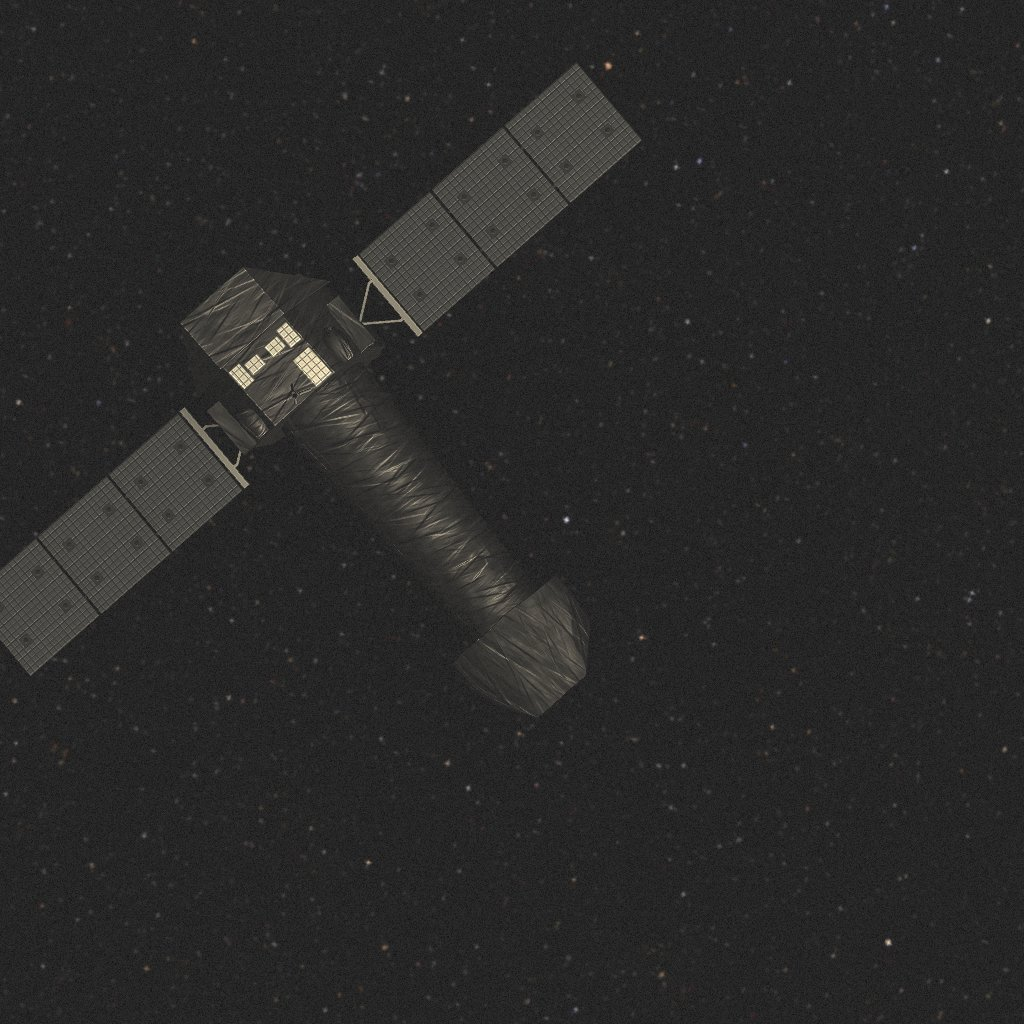xmm_newton: (24, 75, 655, 732)
